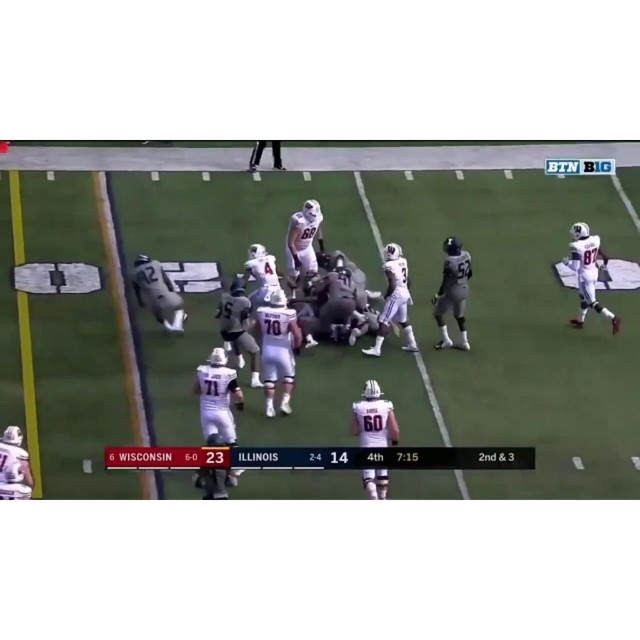american-football-player: (191, 347, 246, 479), (252, 287, 303, 421), (360, 244, 420, 356), (562, 221, 619, 336), (348, 379, 401, 499), (214, 280, 266, 388), (430, 237, 474, 352), (130, 251, 188, 335), (284, 201, 326, 297), (317, 248, 376, 309), (0, 423, 39, 500), (241, 242, 283, 310)
